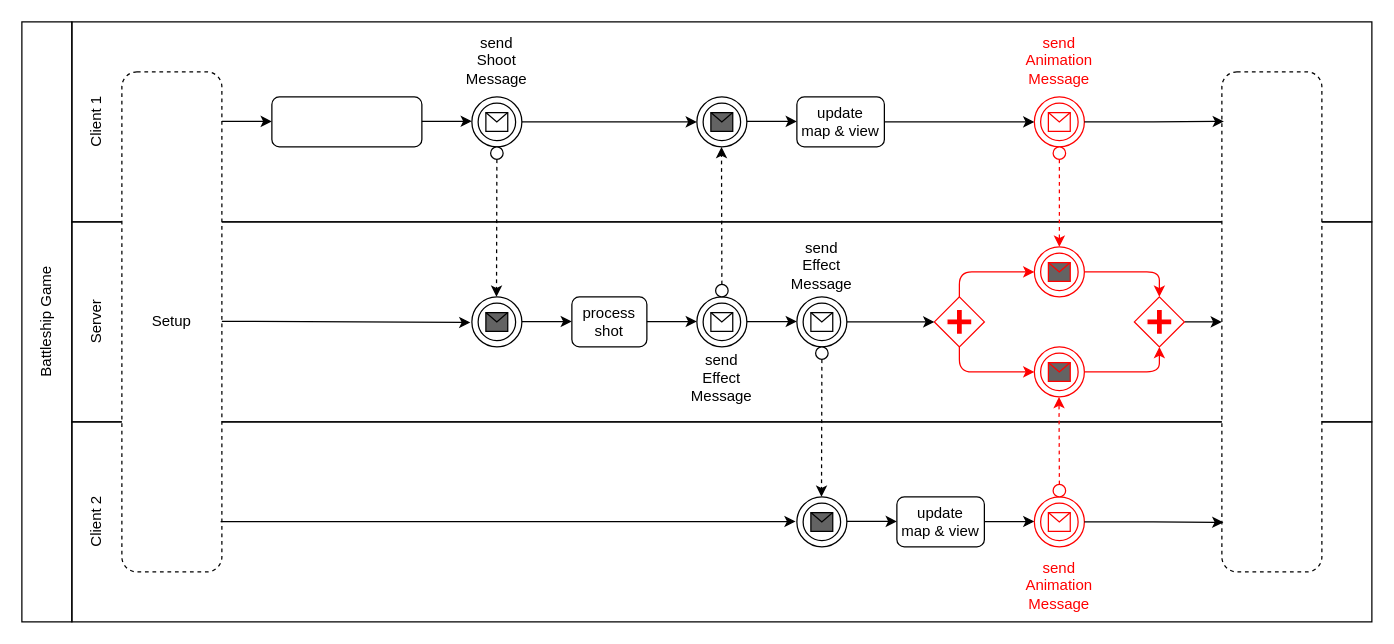
This 1394x644 diagram has some shape labels left out. The shapes that lost their labels are listed below. From the top down, each one's centre as x and y in pixels, then its label:
(346,121): Player 1 selects shooting position
(1271,321): Game play
